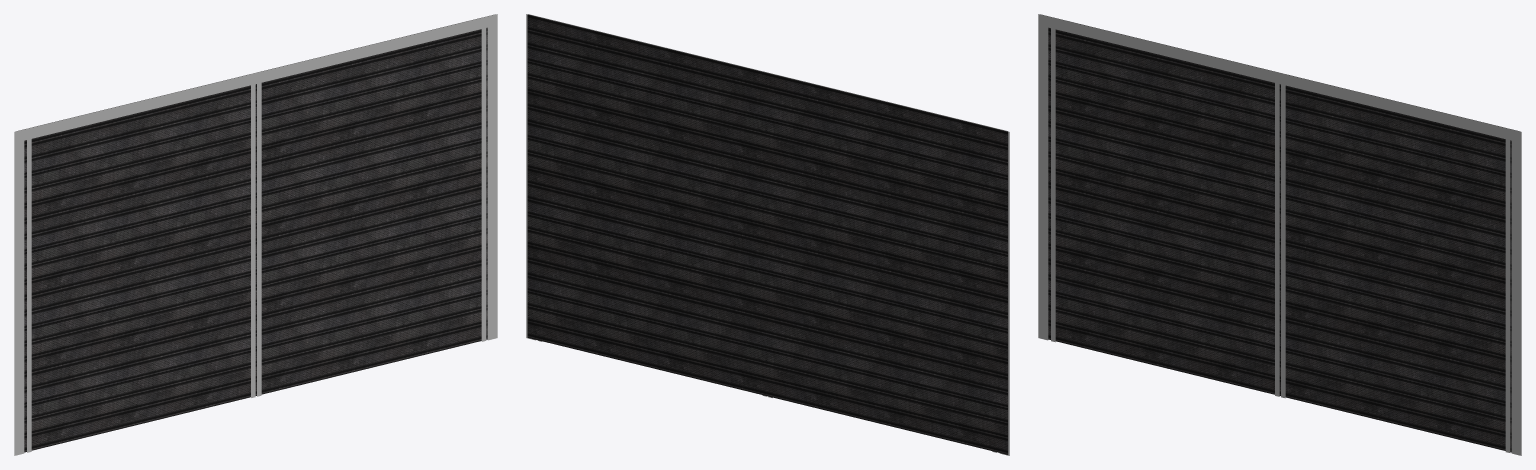
Rendered from store_front_shutters_4x1_a.fbx.
The picture shows the model from 3 angles, left to right: view 1: azimuth 30°, elevation 25°; view 2: azimuth 150°, elevation 25°; view 3: azimuth 330°, elevation 25°; orthographic projection.
Visible parts, largest first — view 1: store_front_shutters_4x1_a; view 2: store_front_shutters_4x1_a; view 3: store_front_shutters_4x1_a.
Part boxes in pixels (x1,y1,x2,y2): store_front_shutters_4x1_a: (14,14,497,455); store_front_shutters_4x1_a: (526,14,1009,455); store_front_shutters_4x1_a: (1038,14,1521,455).
Bounding box in the file's own units: 600 × 0.8502 × 385.
